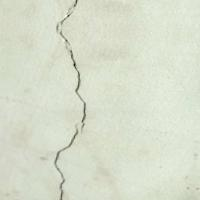crack: (33, 0, 93, 199)
